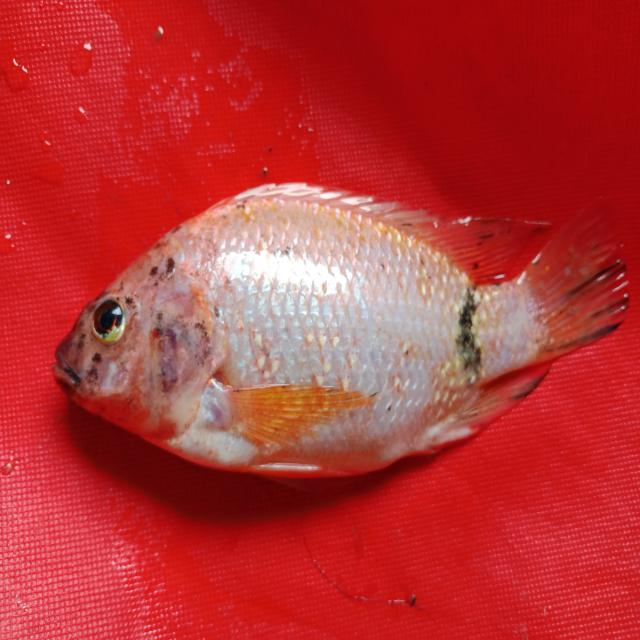ikan: (28, 147, 632, 500)
